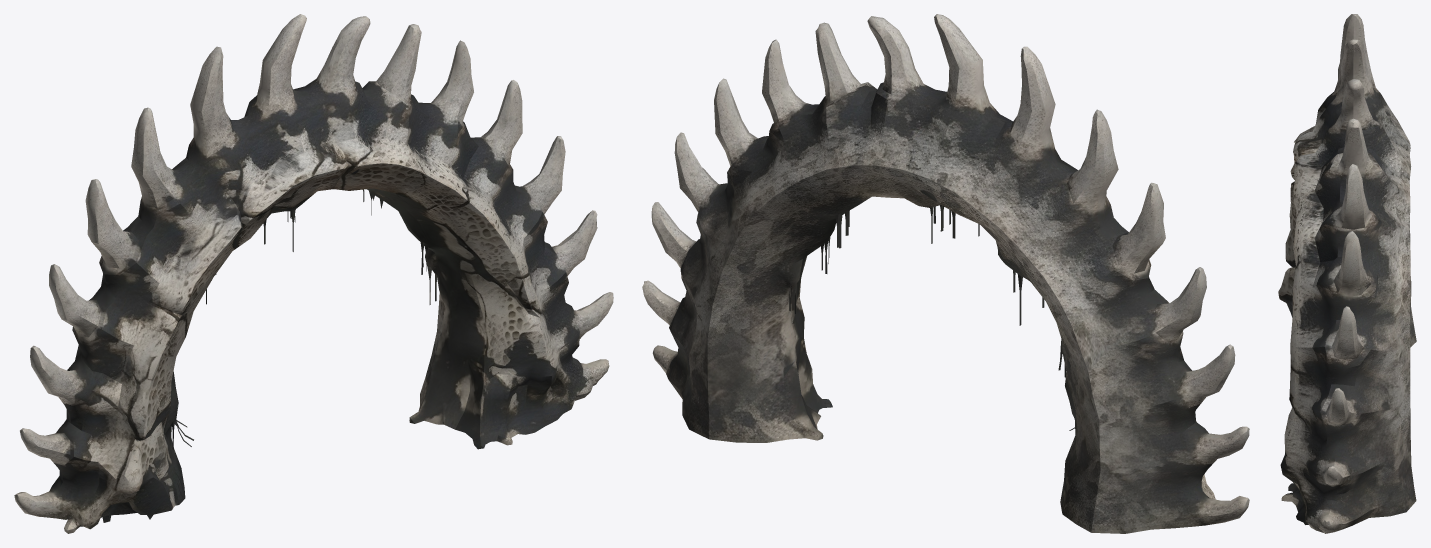
The model's file is kaburga.fbx.
3 views of the same model, side by side, from view 1: azimuth 30°, elevation 25°; view 2: azimuth 150°, elevation 25°; view 3: azimuth 270°, elevation 25° (orthographic). The views are drawn at different scales.
Parts seen in each view (by area): view 1: kaburga; view 2: kaburga; view 3: kaburga.
Part boxes in pixels (x1=…): kaburga: x1=14, y1=14, x2=613, y2=533; kaburga: x1=642, y1=14, x2=1249, y2=533; kaburga: x1=1278, y1=14, x2=1416, y2=533.
Bounding box in the file's own units: 1720 × 396 × 1233.
1 material, 1 textured.
